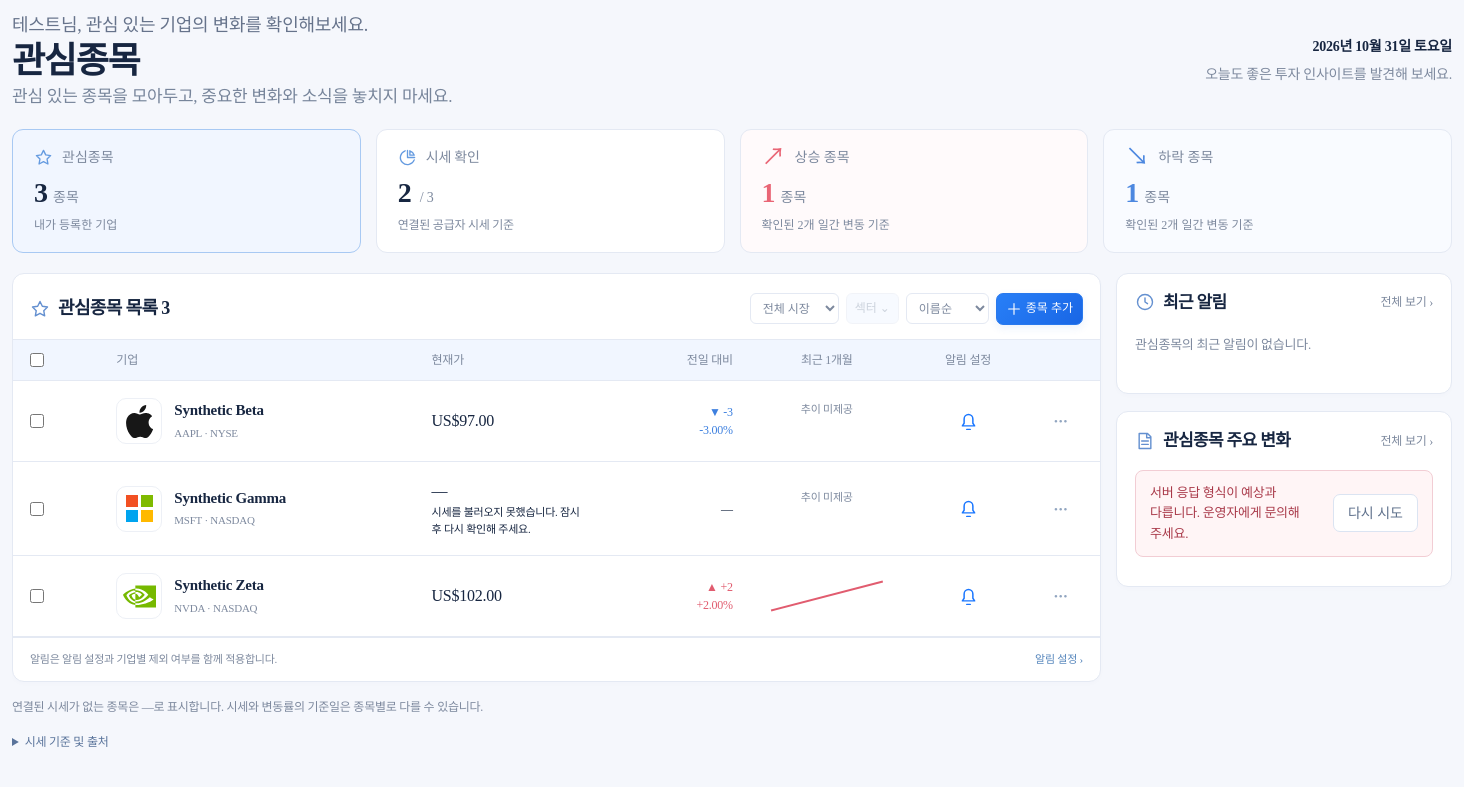
it: desktop watchlist persistence and quote truthfulness › filters and sorts actual daily changes while leaving unavailable quotes unknown
Expected: the link "Synthetic Gamma MSFT · NASDAQ" is shown, [116,486,286,532]
Expected: the number of rows is 4, [13,339,1100,381]; [13,381,1100,462]; [13,462,1100,556]; [13,556,1100,637]
Select "등락률순" in the dropdown named "관심종목 정렬" at [947, 309], box [906,293,989,324]
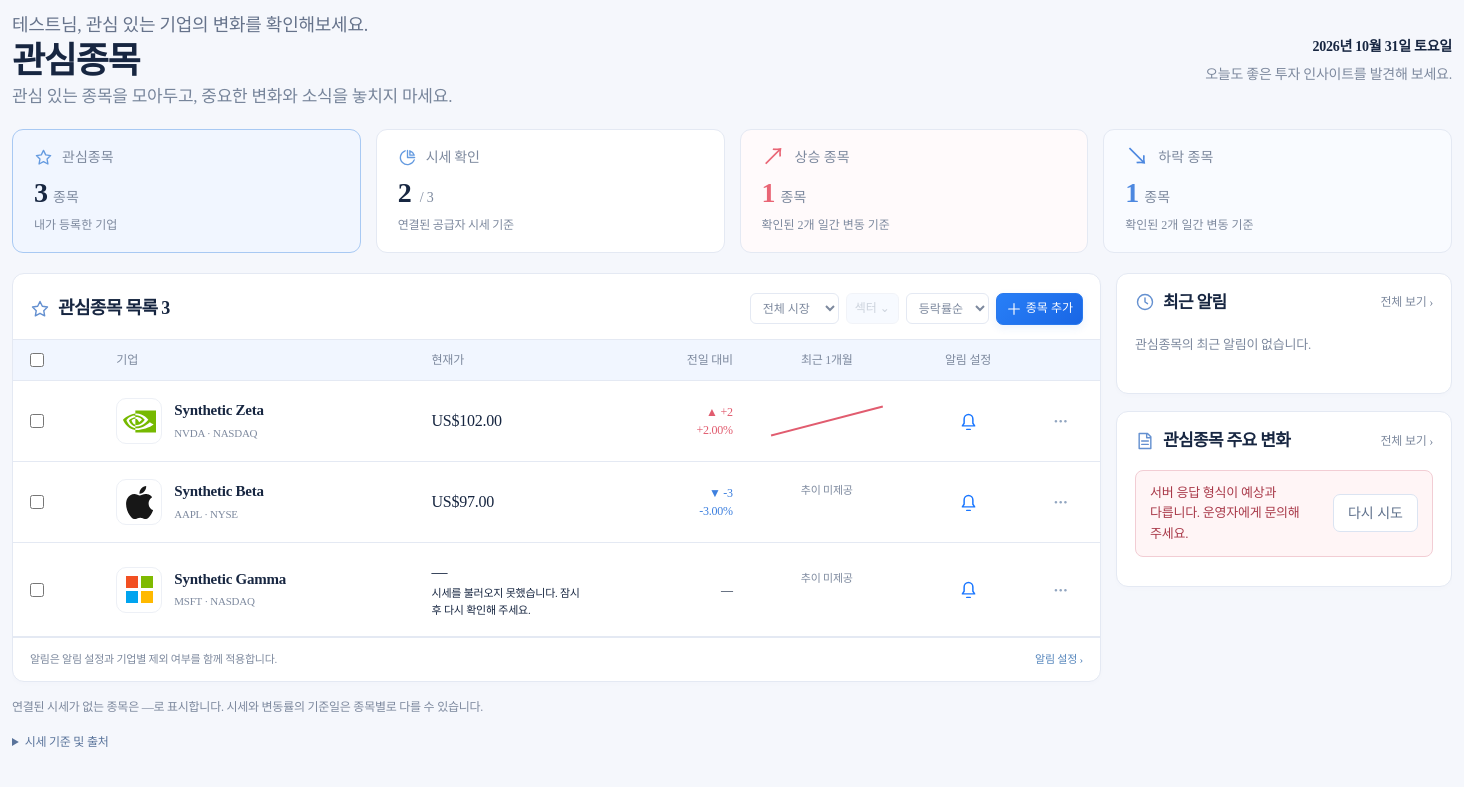
Expected: the row "Synthetic Zeta NVDA · NASDAQ US$102.00 ▲ +2 +2.00% •••" is shown, [13,381,1100,462]
Select "NYSE" in the dropdown named "관심종목 시장 필터" at [794, 309], box [750,293,839,324]
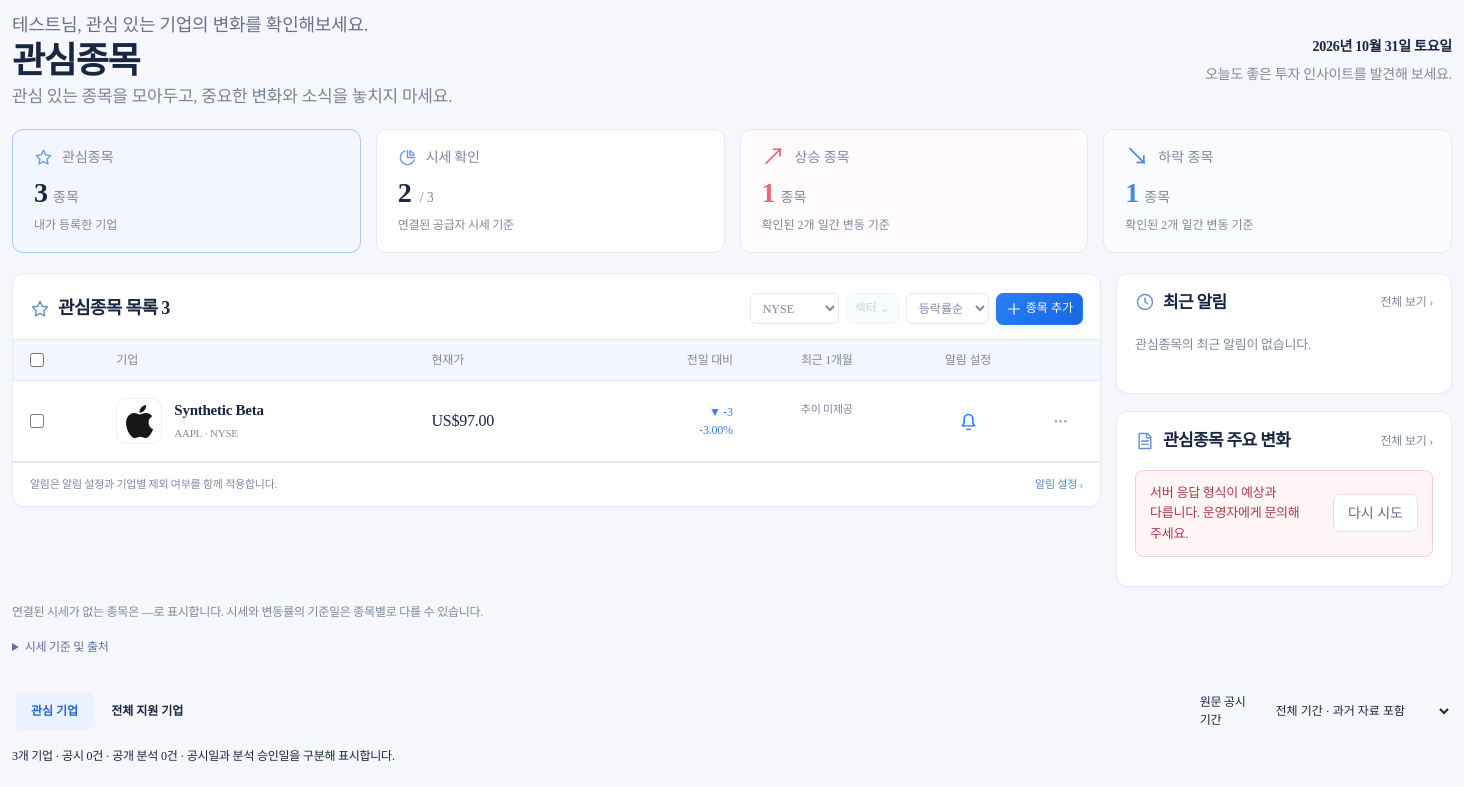
Expected: the text "Synthetic Beta" is shown, [174,402,264,418]
Expected: the number of rows is 2, [13,339,1100,381]; [13,381,1100,462]
Select "전체 시장" in the dropdown named "관심종목 시장 필터" at [794, 309], box [750,293,839,324]
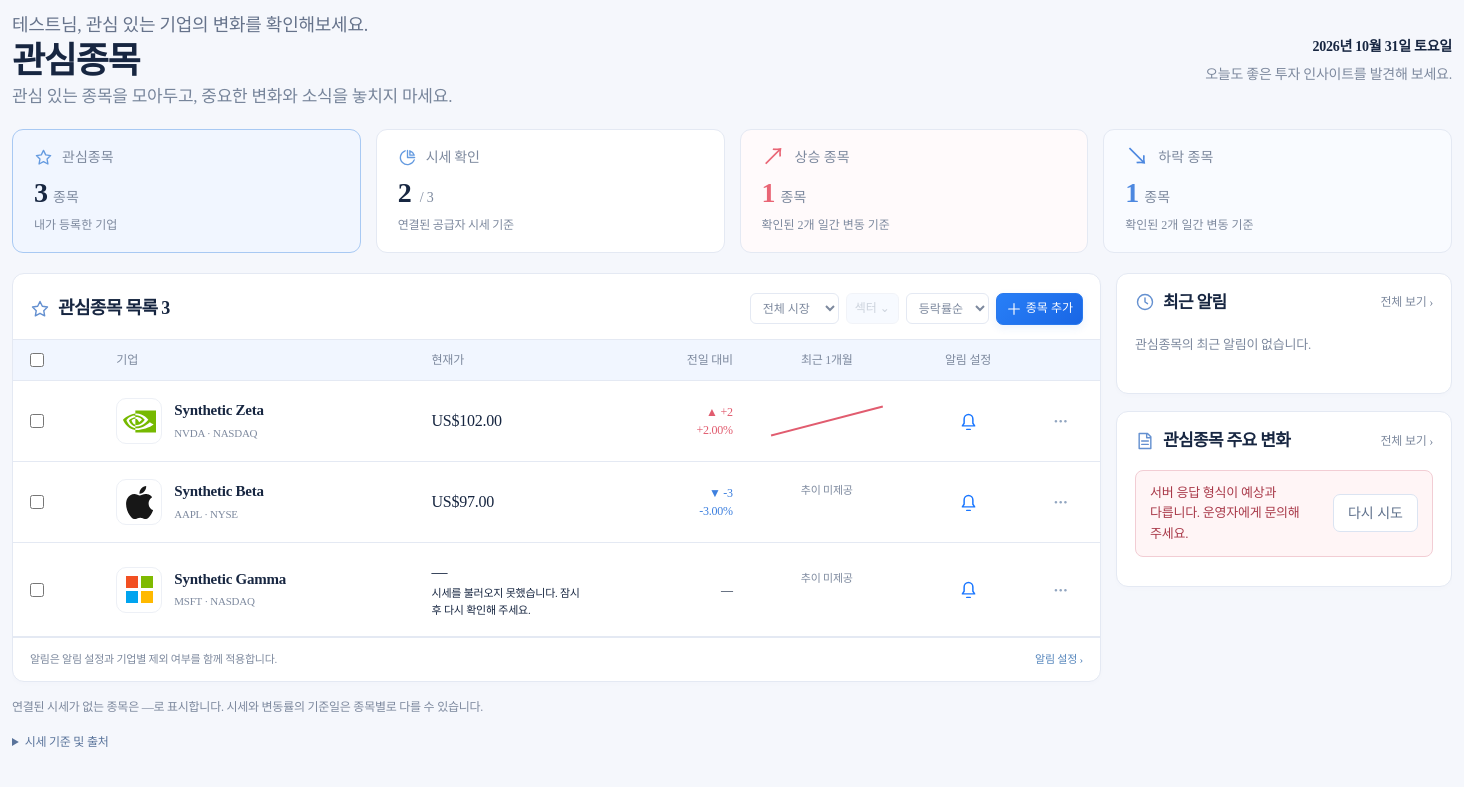
Click the button named "상승 종목 1 종목" at [822, 157], box [740,128,1088,253]
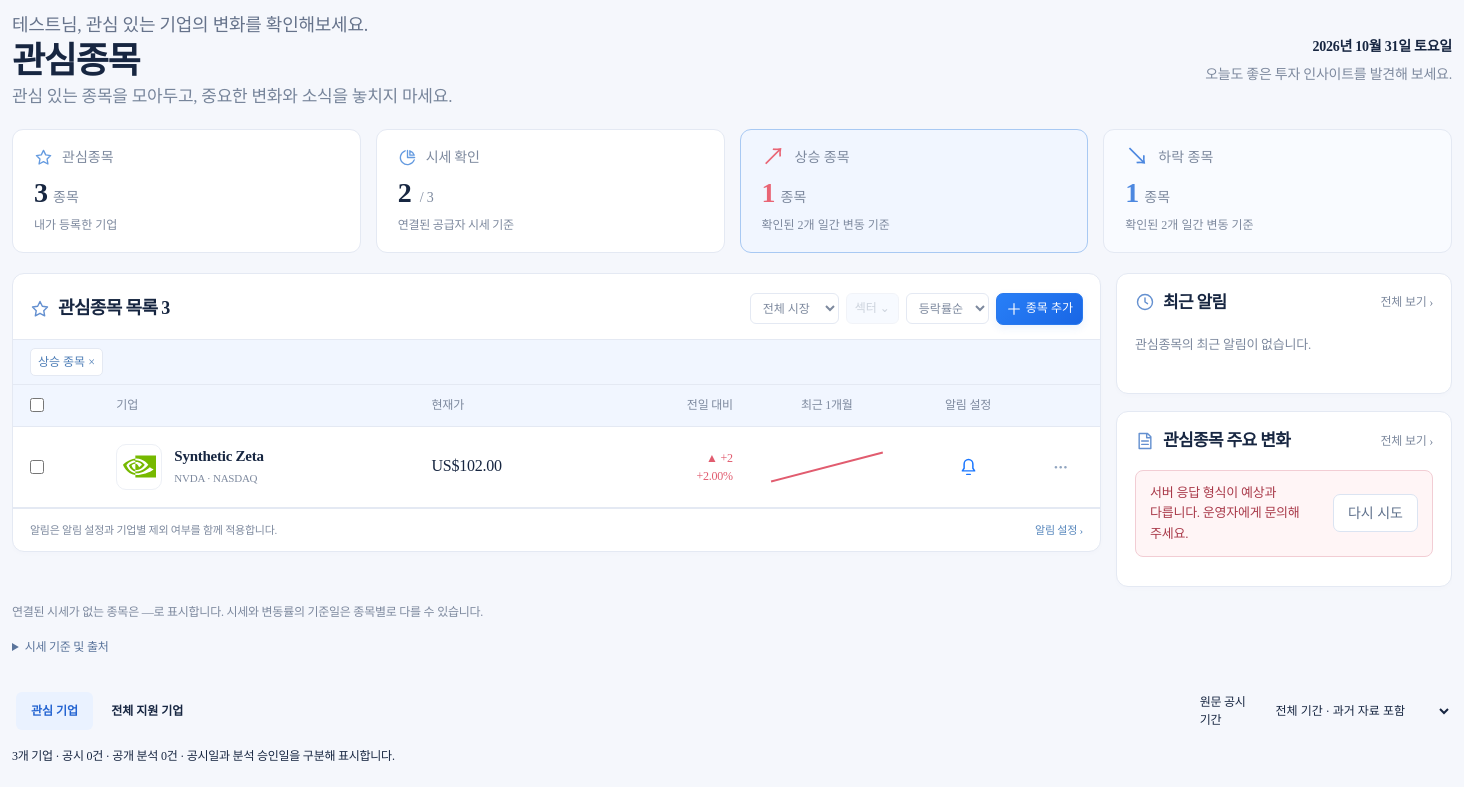
Expected: the text "Synthetic Zeta" is shown, [174,448,264,464]
Expected: the number of rows is 2, [13,385,1100,426]; [13,426,1100,507]
